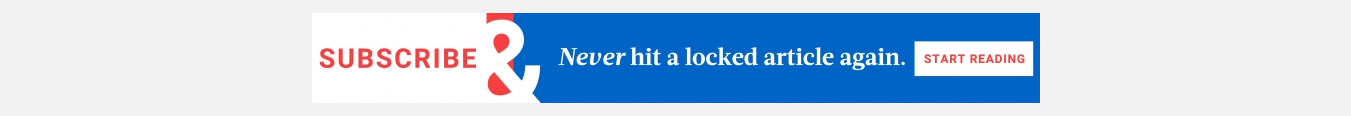fake_button: (906, 30, 1040, 89)
